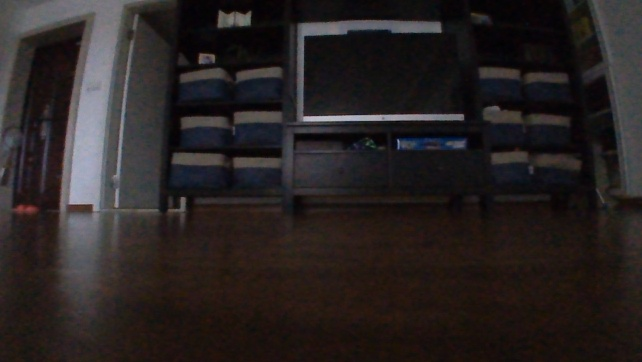TV_stand: (279, 118, 496, 217)
door_anno: (0, 10, 95, 215), (96, 11, 172, 216)
